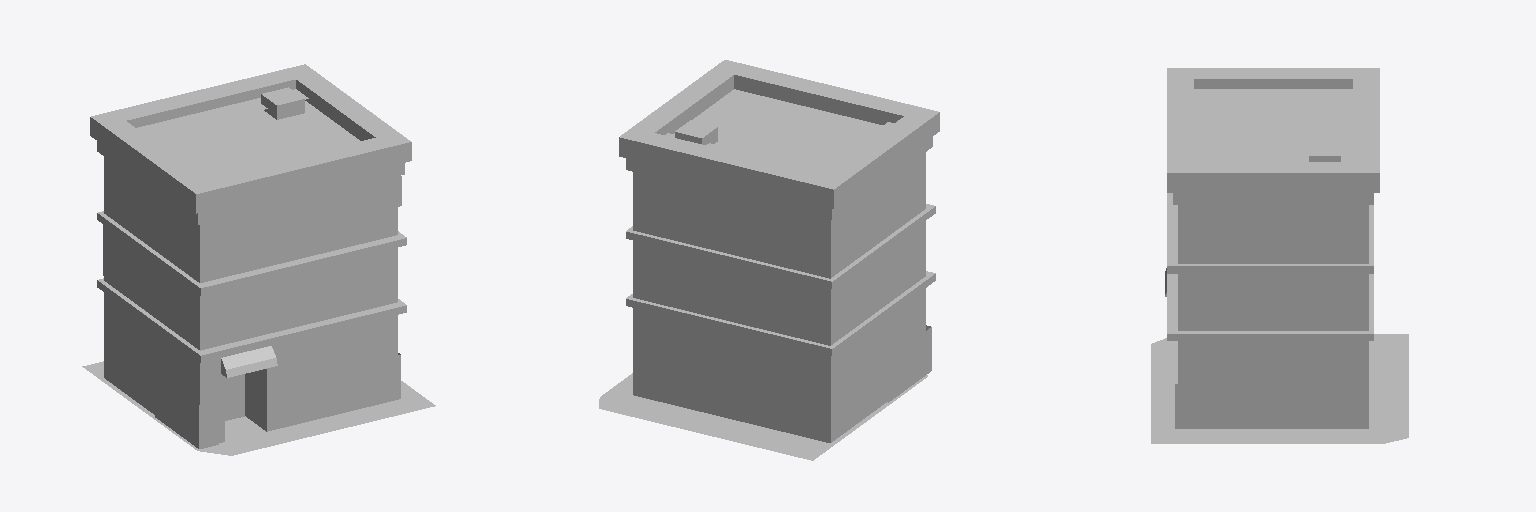
The model's file is Accumula Town Building.obj.
The picture shows the model from 3 angles: view 1: azimuth 30°, elevation 25°; view 2: azimuth 150°, elevation 25°; view 3: azimuth 270°, elevation 25°; orthographic projection.
Visible parts, largest first — view 1: polygon4, polygon3, polygon1, polygon2; view 2: polygon4, polygon3, polygon2, polygon1; view 3: polygon4, polygon3, polygon2, polygon1.
Boxes of the visible parts, <box> form: polygon4: <box>97,157,406,442</box>; polygon3: <box>90,64,411,441</box>; polygon1: <box>103,176,401,448</box>; polygon2: <box>82,89,435,455</box>; polygon4: <box>626,152,935,442</box>; polygon3: <box>619,60,939,219</box>; polygon2: <box>599,122,927,460</box>; polygon1: <box>839,233,931,402</box>; polygon4: <box>1167,193,1373,428</box>; polygon3: <box>1165,68,1379,296</box>; polygon2: <box>1151,89,1408,443</box>; polygon1: <box>1175,384,1198,428</box>.
Size of the model in its own units: 101 by 109 by 97.19.